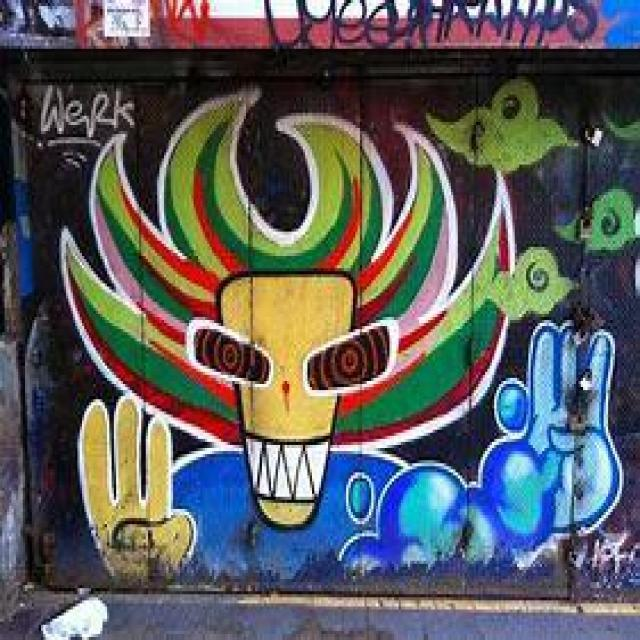nonspitting: (257, 0, 596, 54), (34, 79, 136, 171), (155, 0, 221, 45)
spitting: (64, 76, 626, 594)
